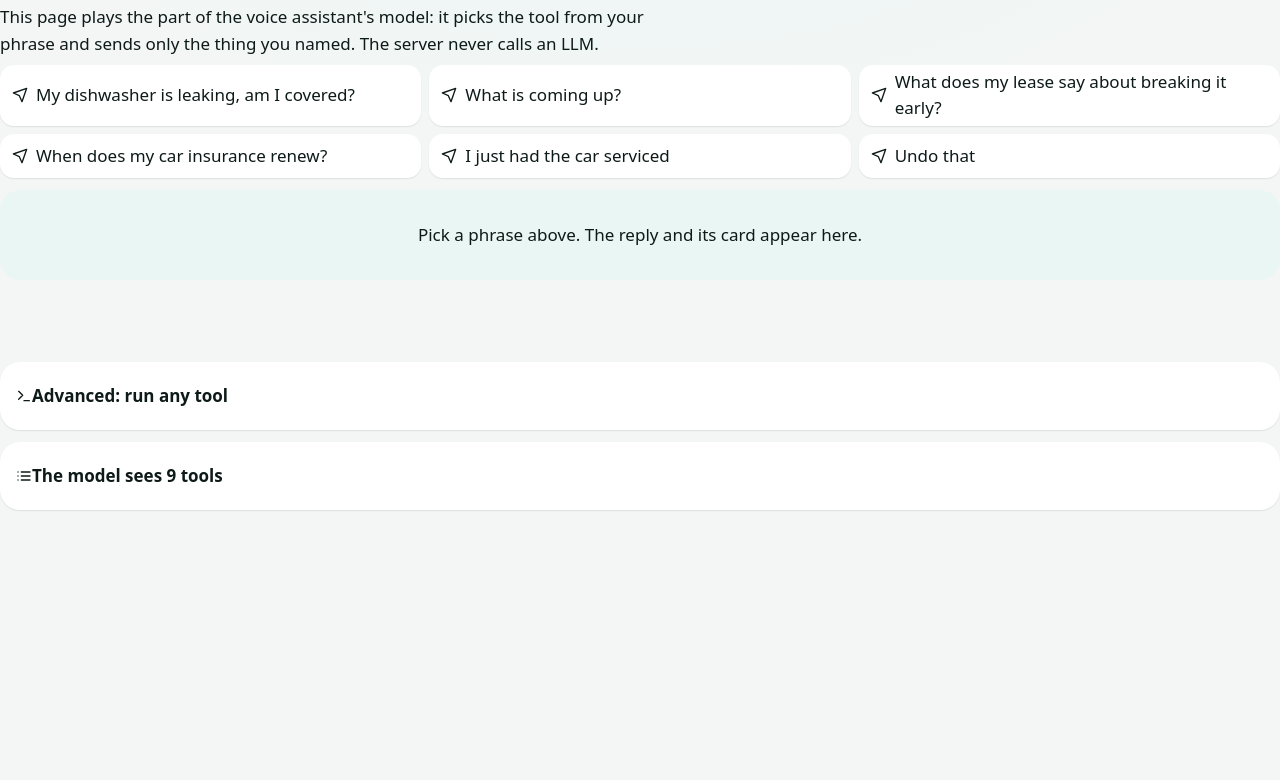
Test: presenter console › shows the spoken text first with the proactive sentence highlighted, then the card
Click the button "My dishwasher is leaking, am I covered?".
click(211, 95)  # box [0, 65, 421, 126]
(page scrolled)
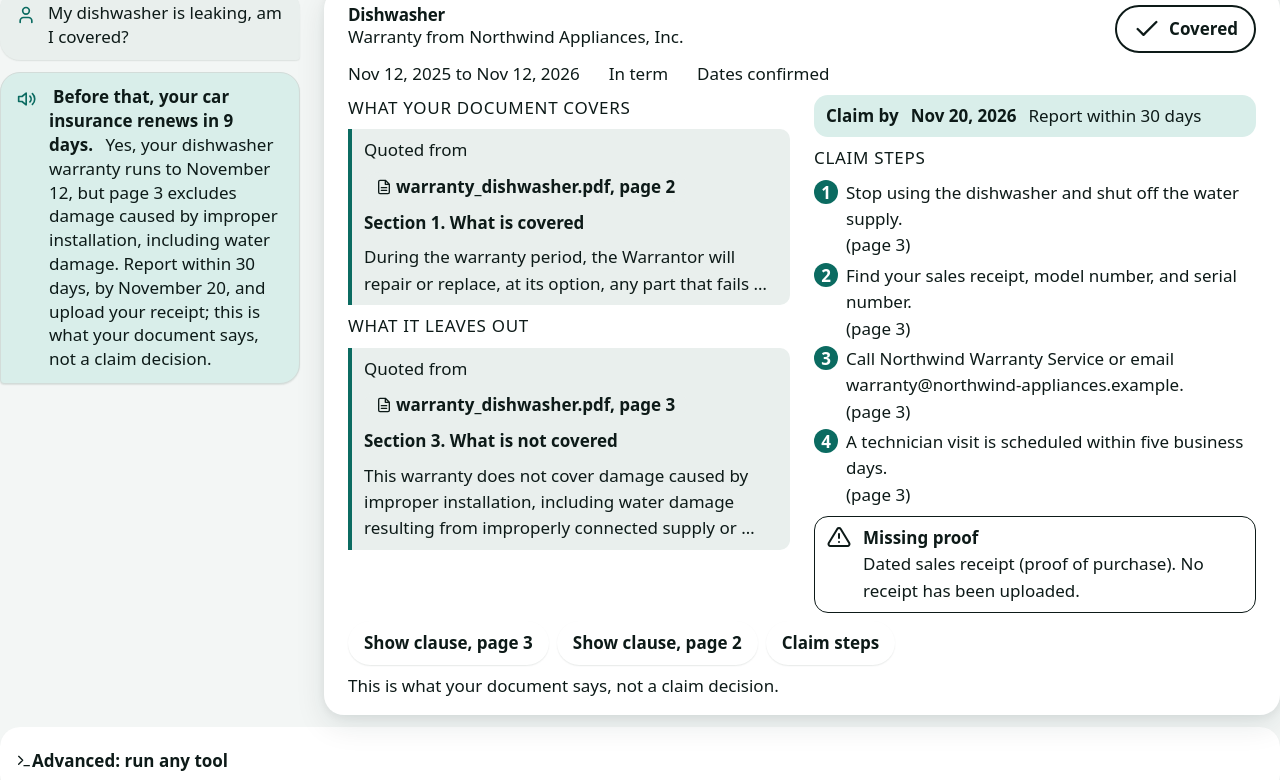
Result: the text "Before that, your car insurance renews in 9 days." is shown at [49, 85, 233, 156]
Result: the element with test id "speech" shows "page 3 excludes damage caused by improper installation" at [49, 133, 278, 370]
Result: the element with test id "badge" is shown at [1115, 5, 1256, 53]
